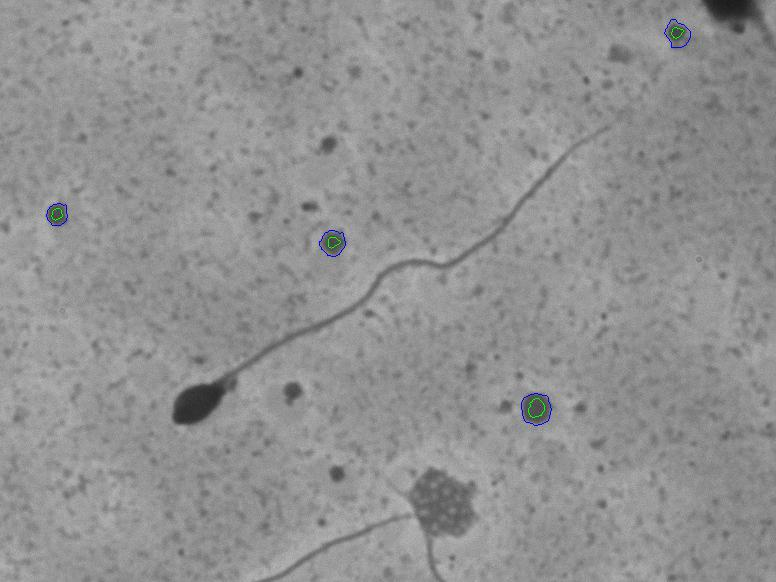Abnormal: (143, 116, 609, 452)
